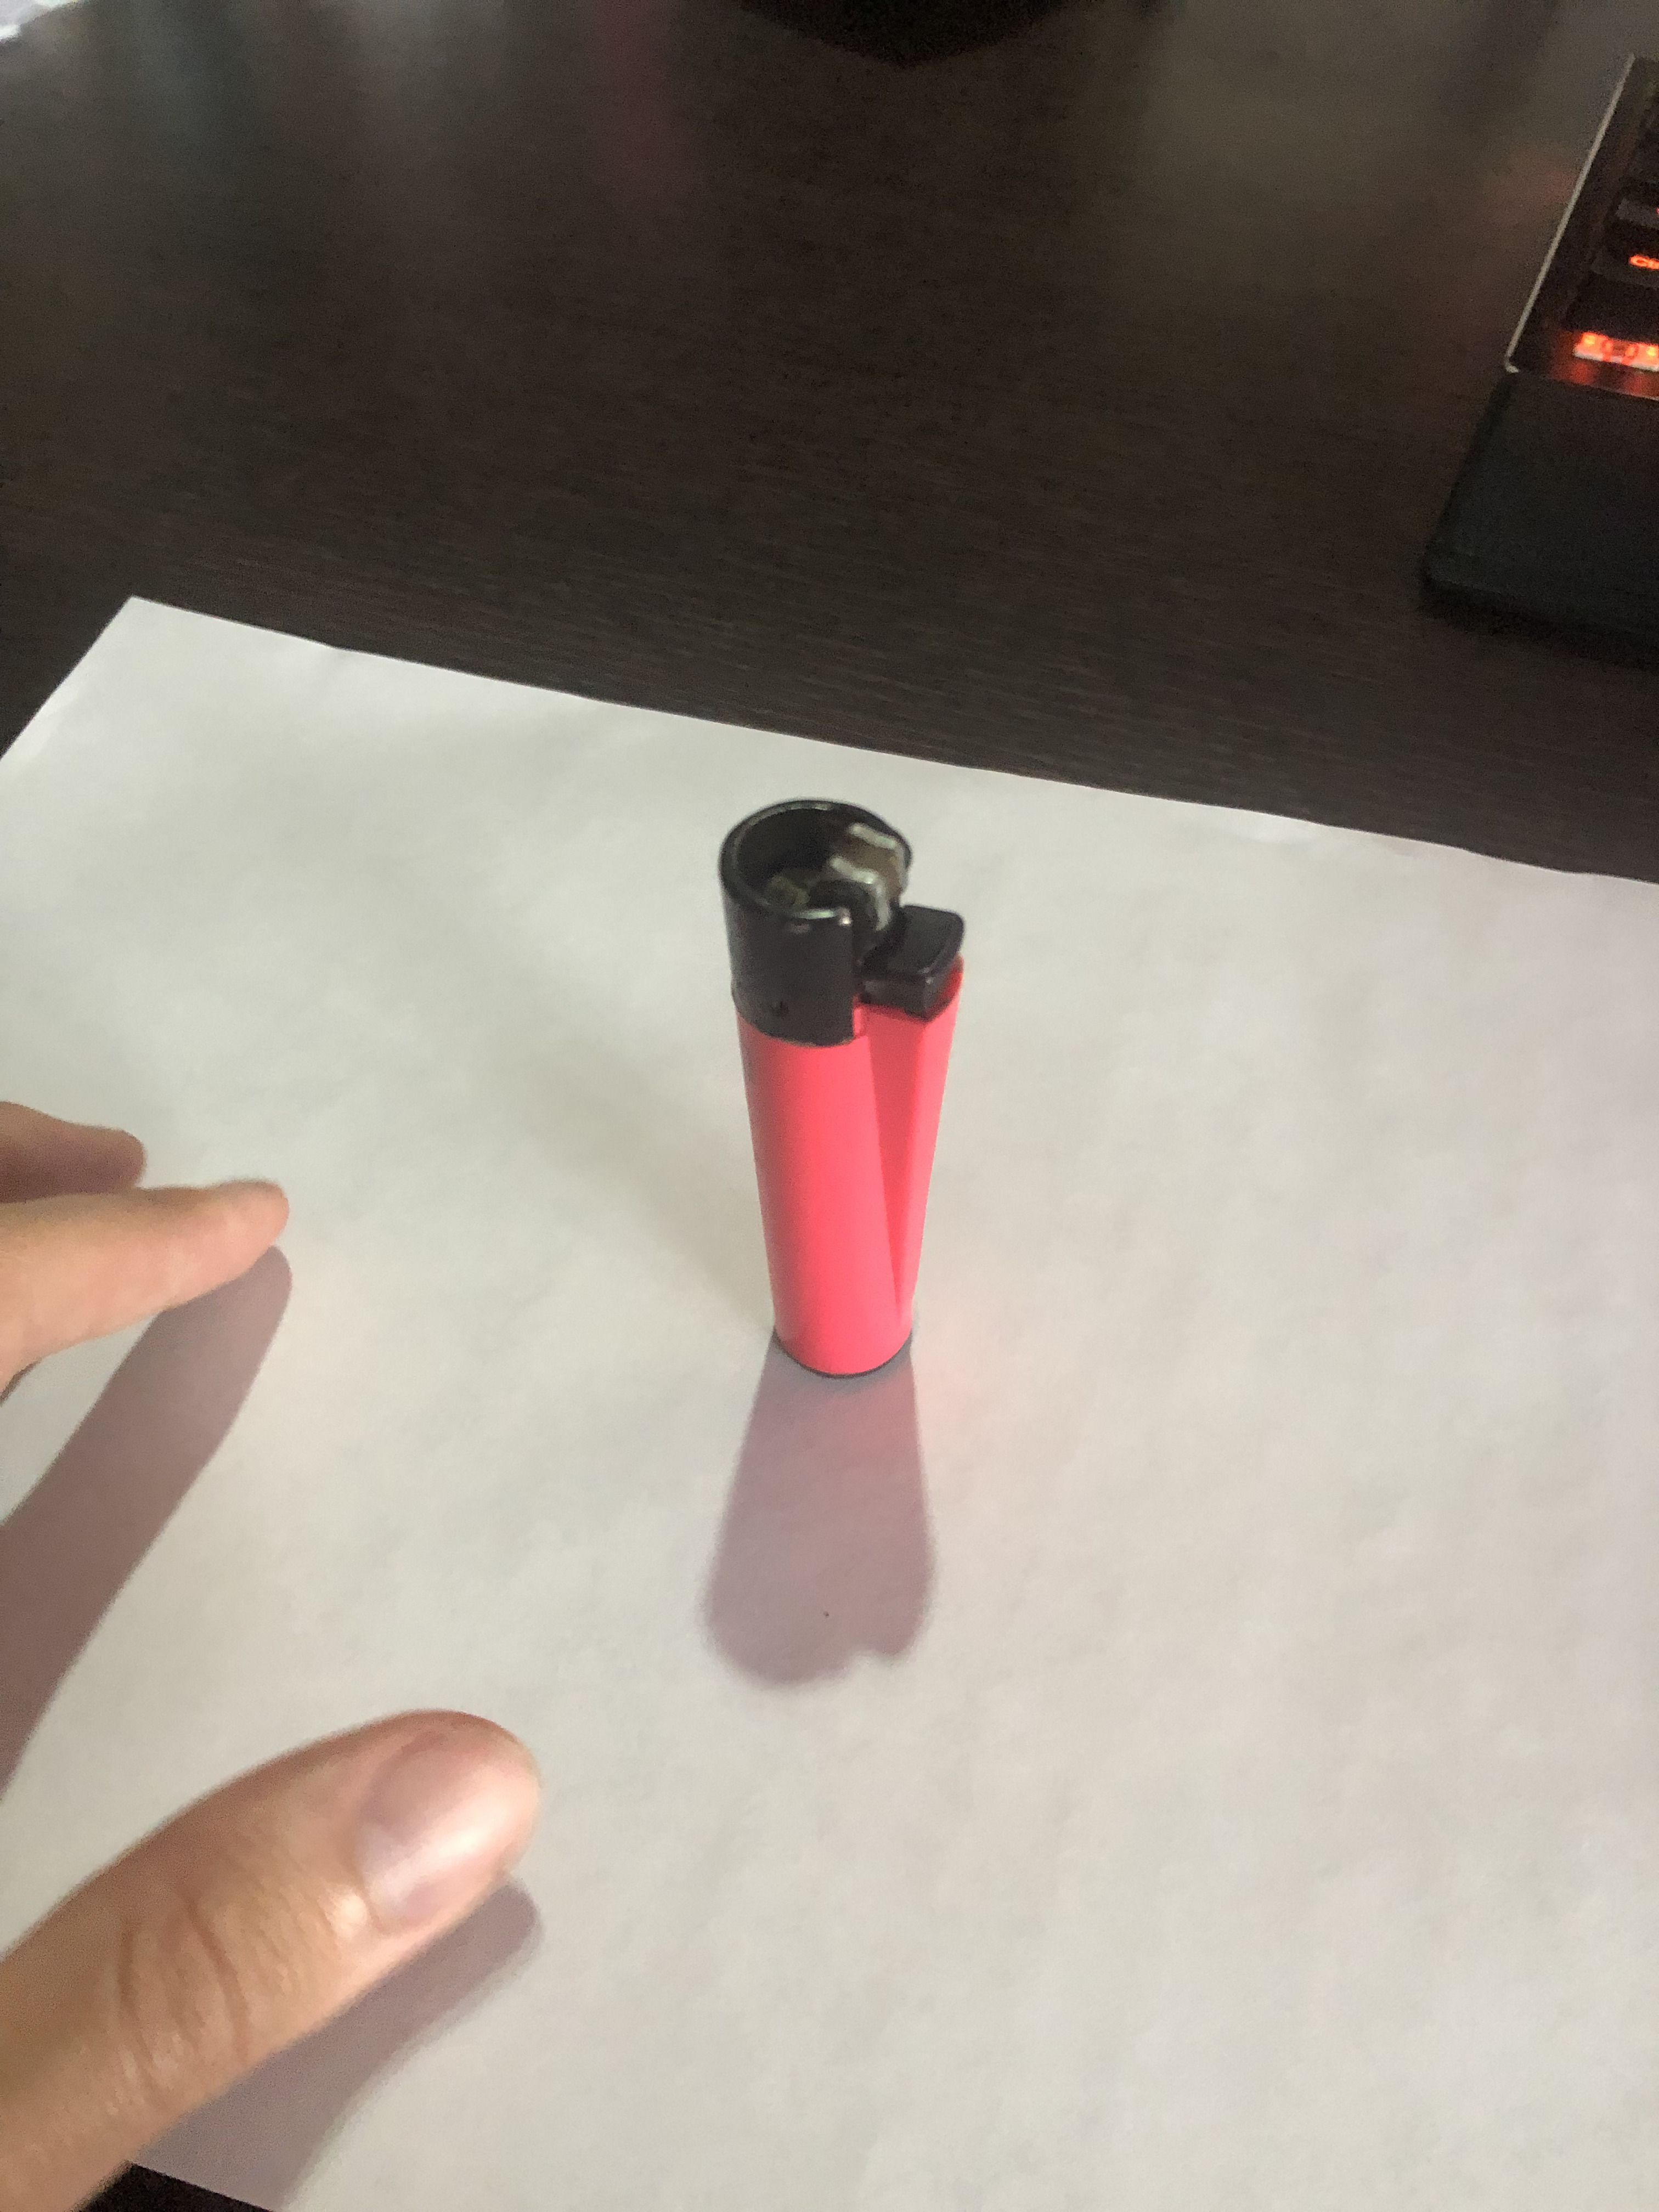Mechero: (676, 784, 979, 1397)
